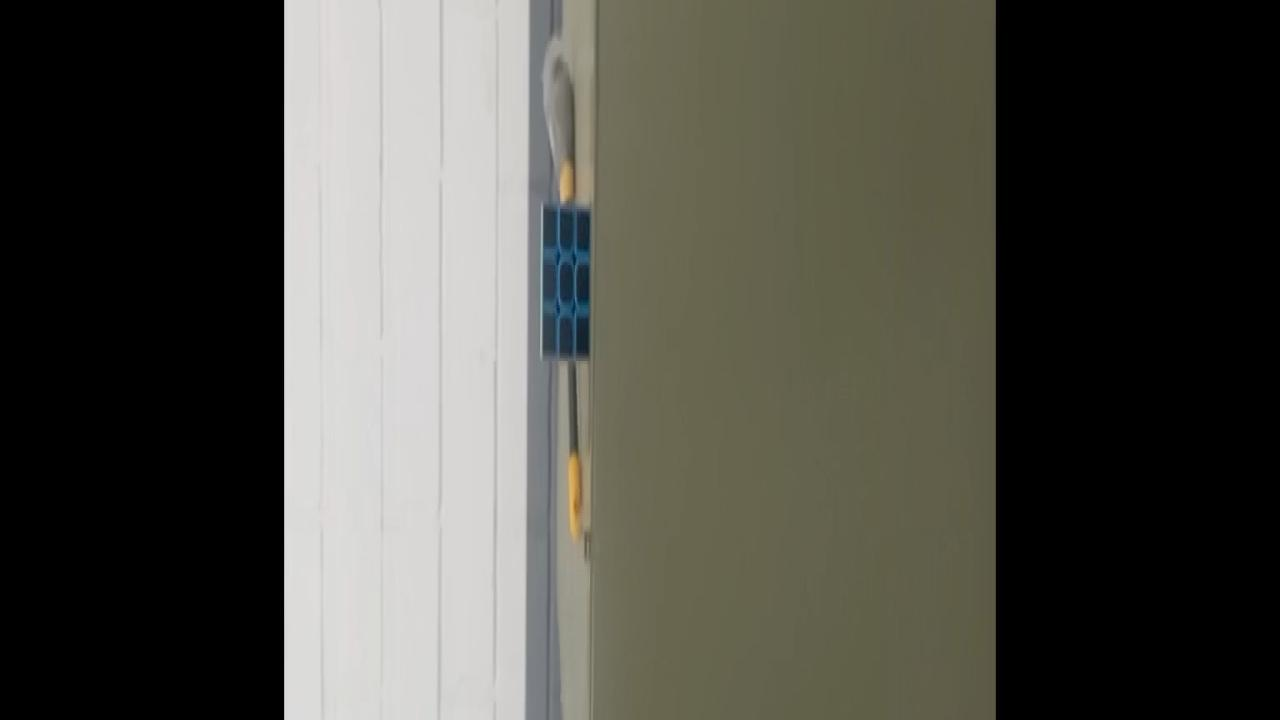Cube: (538, 200, 590, 366)
